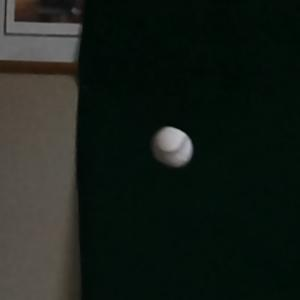ball: (151, 125, 196, 169)
